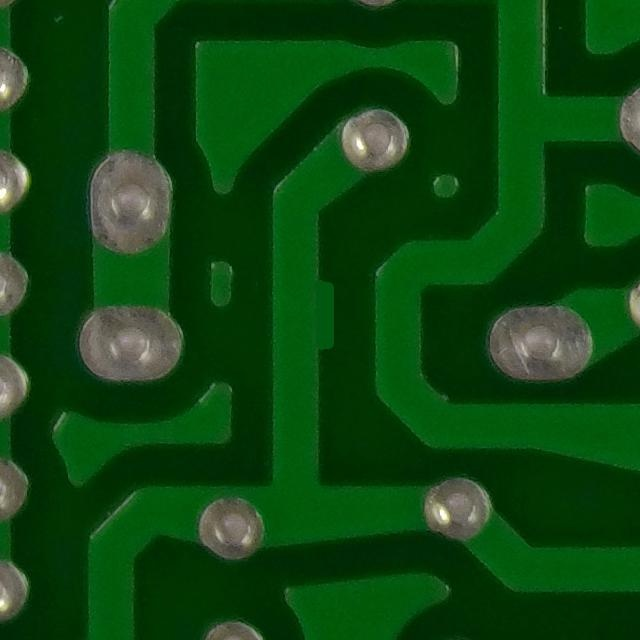spur: (291, 270, 348, 370)
